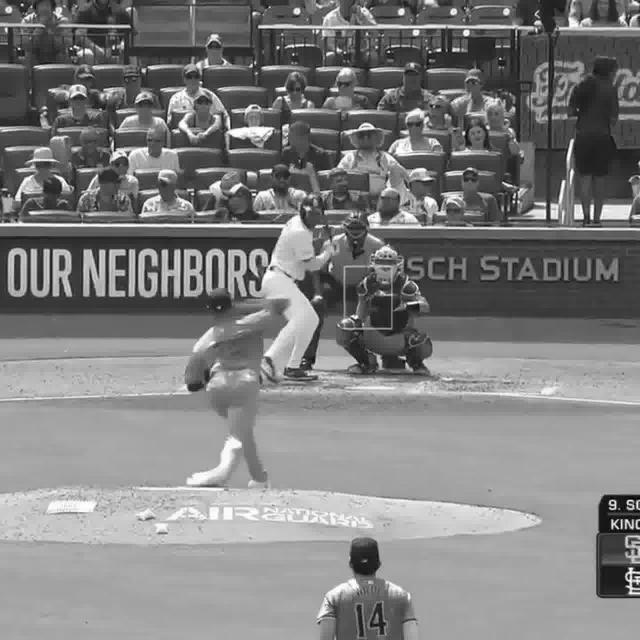base: (342, 382, 397, 392)
baseball_glove: (368, 290, 400, 314)
bat: (306, 160, 338, 246)
shoe: (284, 366, 318, 386), (345, 360, 381, 374), (410, 361, 432, 376), (252, 476, 270, 492)
